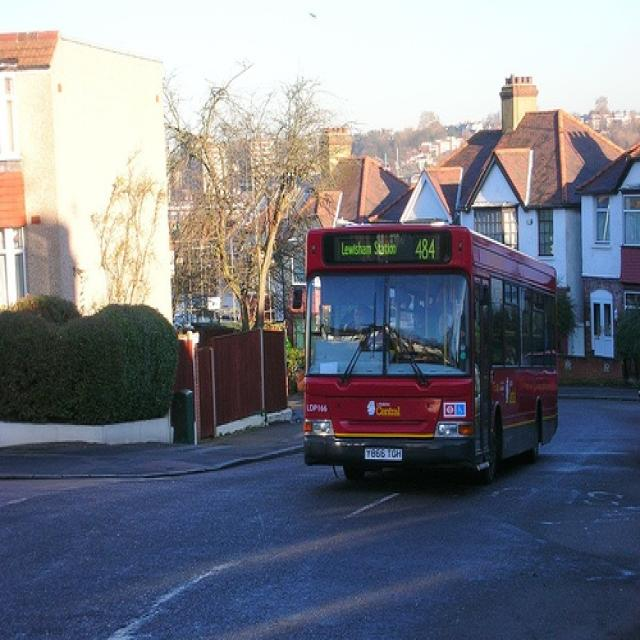bus: (288, 220, 558, 493)
